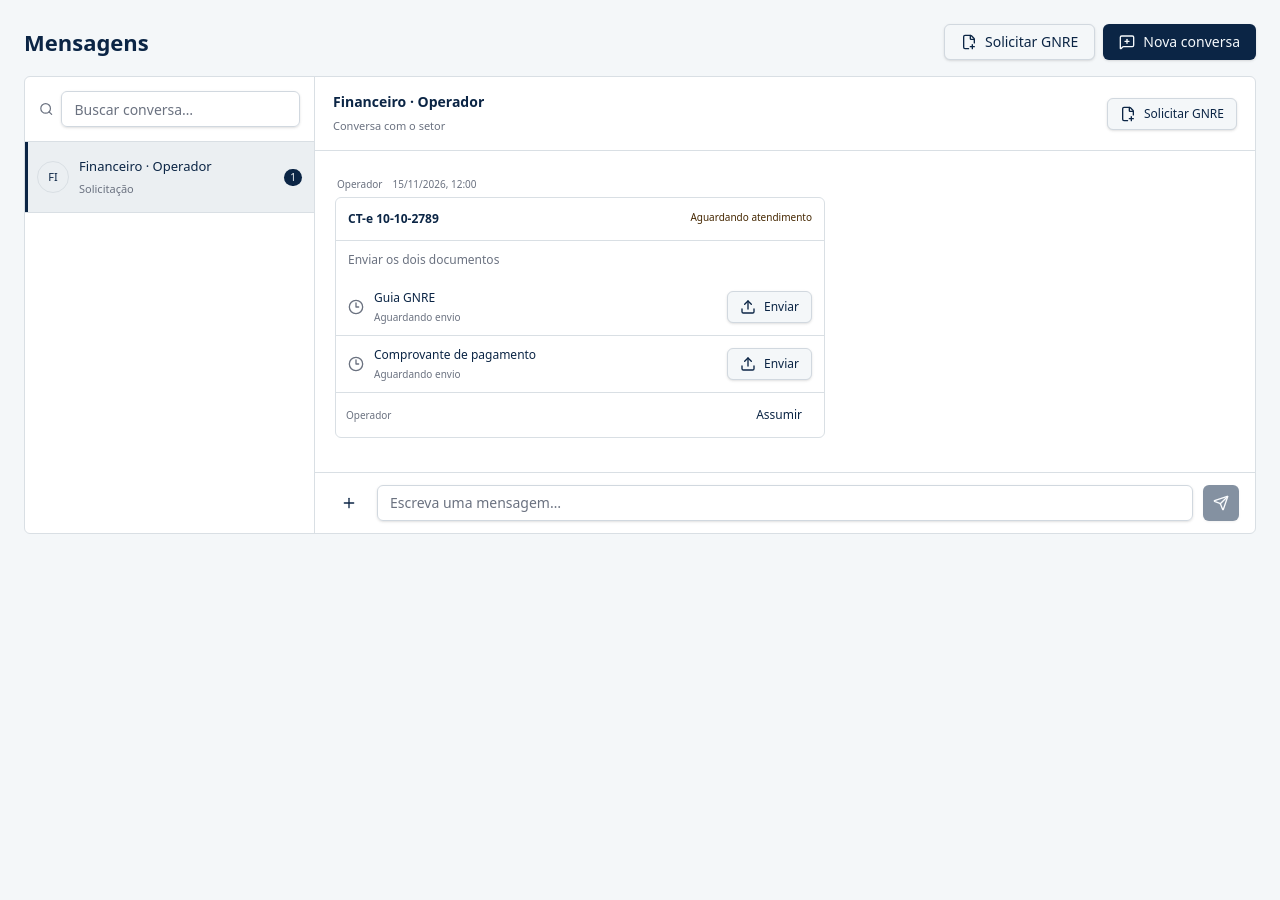
Test: mantém a confirmação WebSocket quando a resposta HTTP falha depois da gravação
The width and height of the screenshot is (1280, 900).
Later steps or results of the test are not shown.
Expected: the element named "Documentos do CT-e 10-10-2789" is shown, [335,197,825,438]
Type "Confirmada" into the text box named "Mensagem da conversa" at (785, 503), box [377,485,1193,521]
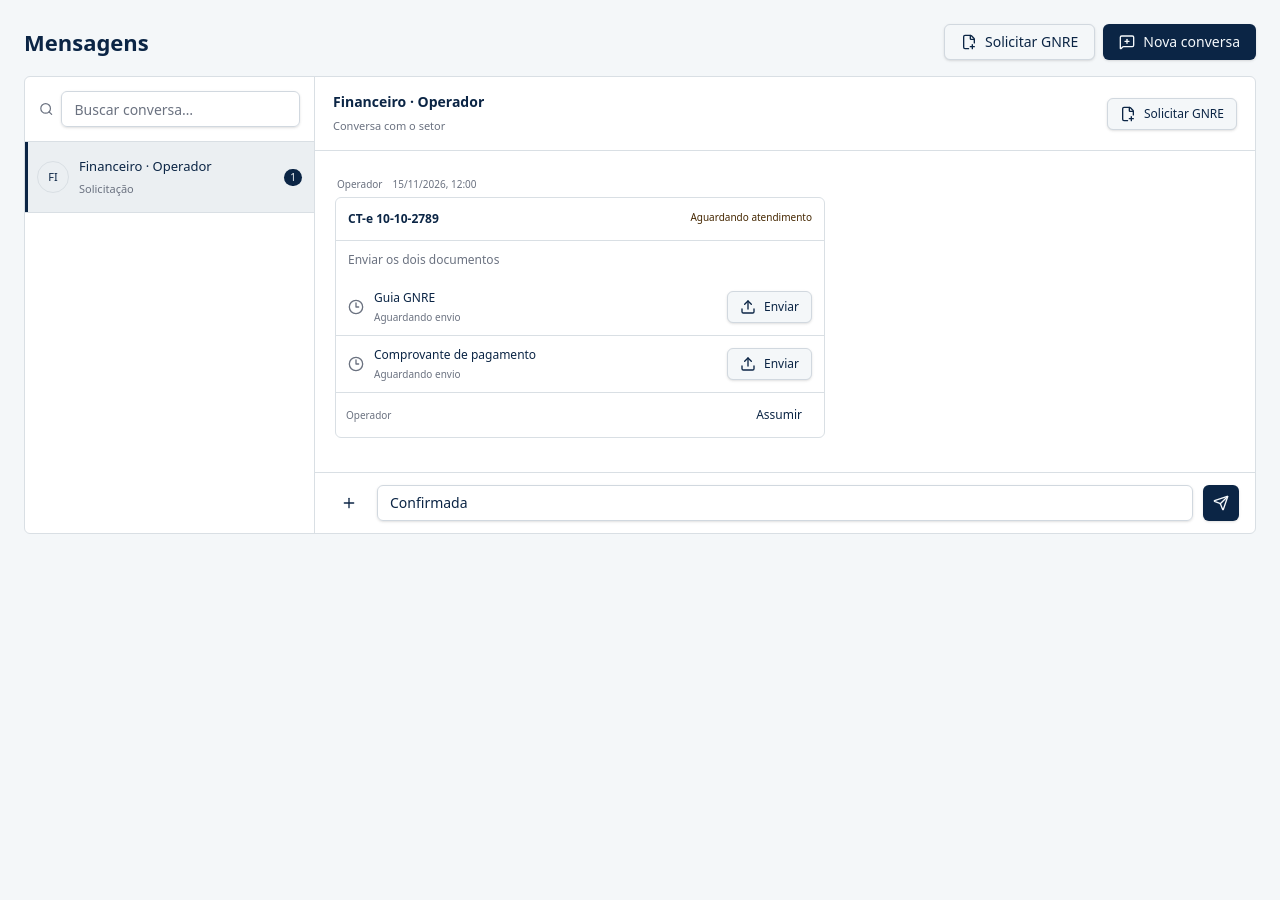
Click the button named "Enviar mensagem" at (1221, 503), box [1203,485,1239,521]
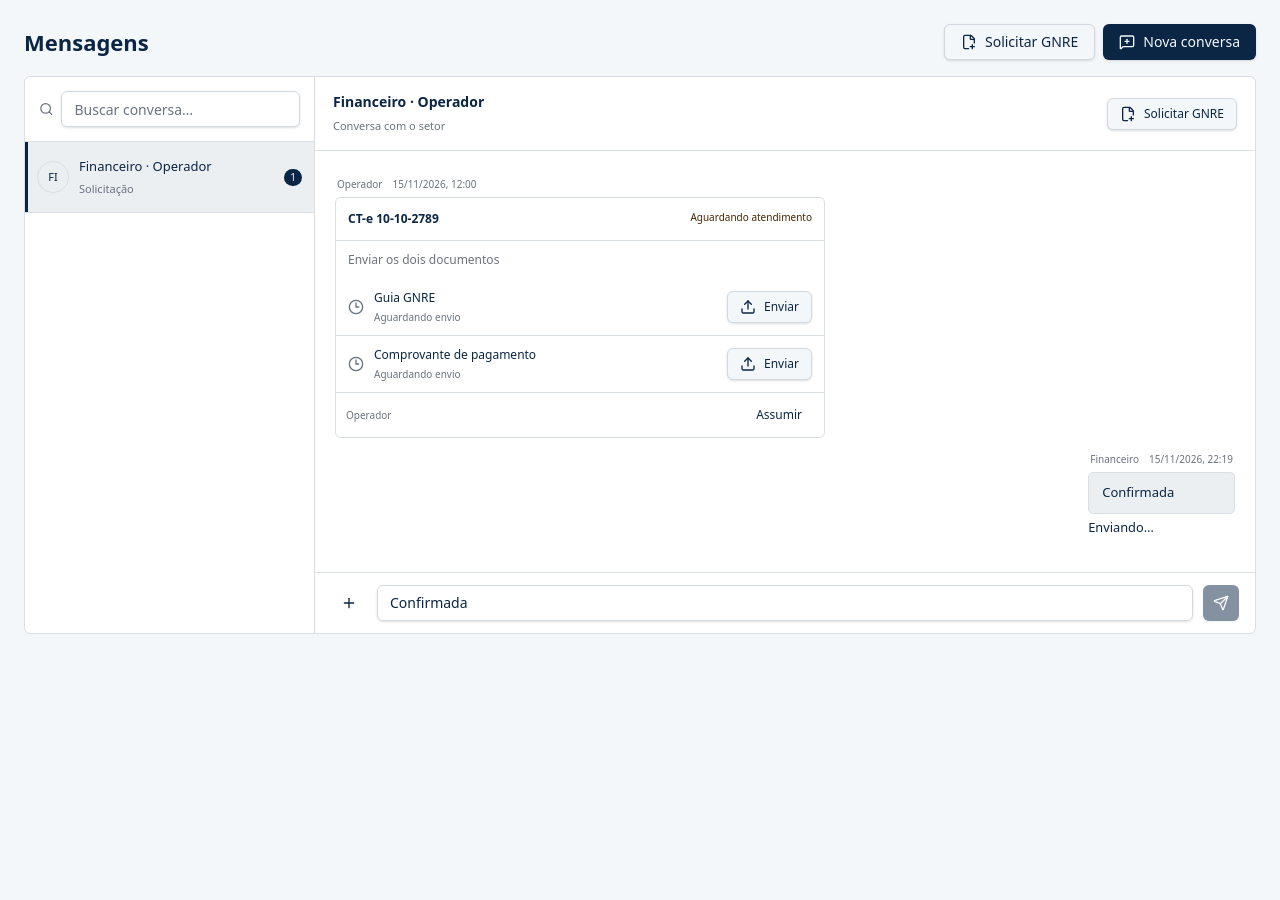
Now the text "Enviando…" is shown, box [1088,518,1154,536]
